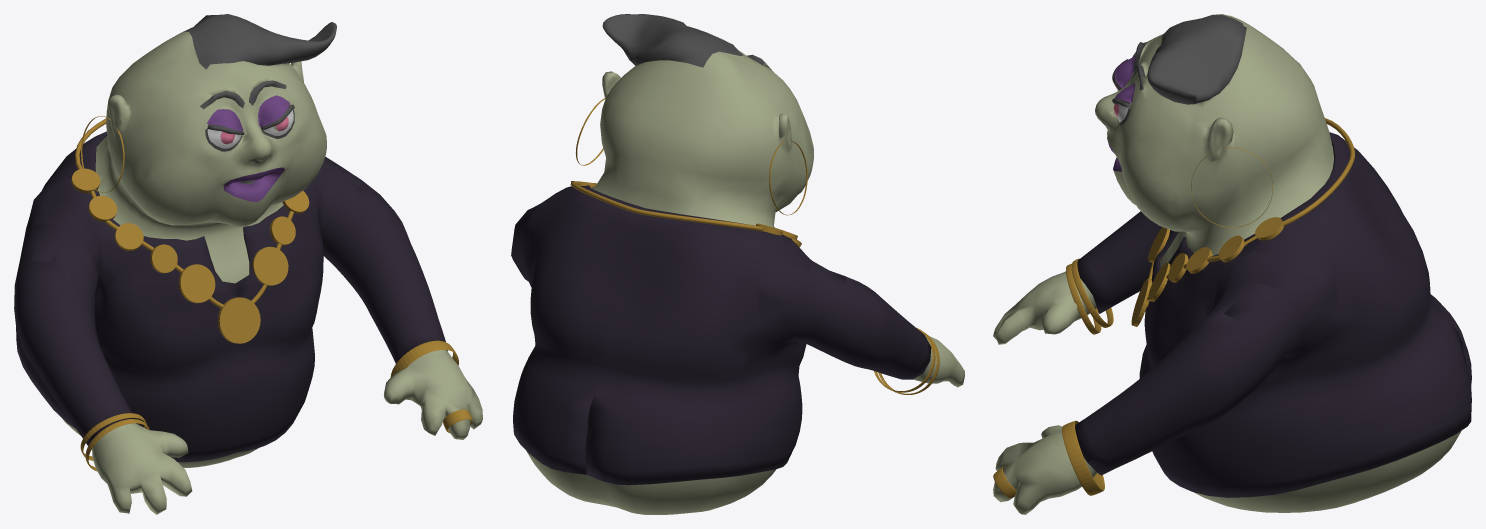
Rendered from Fortune.teller.export.glb.
3 views of the same model, side by side, from view 1: azimuth 30°, elevation 25°; view 2: azimuth 150°, elevation 25°; view 3: azimuth 270°, elevation 25° (orthographic). The views are drawn at different scales.
Visible parts, largest first — view 1: FortuneTeller; view 2: FortuneTeller; view 3: FortuneTeller.
Boxes of the visible parts, x1,y1,x2,y2 form: FortuneTeller: [14, 14, 482, 514]; FortuneTeller: [511, 14, 964, 514]; FortuneTeller: [993, 14, 1471, 514].
Size of the model in its own units: 2.42 by 2.7 by 2.46.
